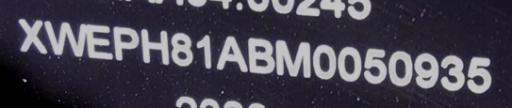letter: (42, 19, 88, 58), (274, 36, 312, 78), (214, 33, 248, 73), (16, 16, 50, 54), (138, 27, 170, 66), (246, 36, 276, 76), (463, 54, 493, 94), (110, 24, 140, 62), (84, 22, 114, 59), (335, 45, 363, 83), (386, 49, 414, 87), (168, 29, 194, 67), (310, 41, 336, 79), (362, 46, 388, 84), (439, 53, 465, 91), (413, 51, 439, 88), (194, 31, 214, 71)
